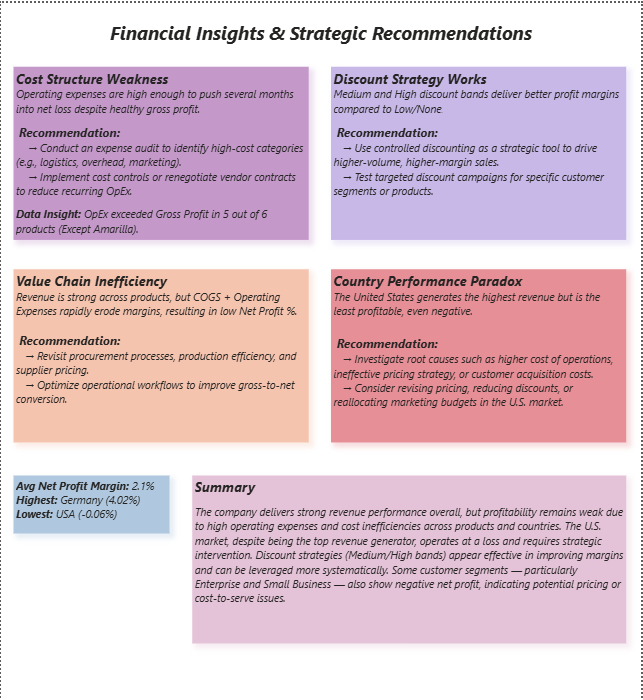

The dashboard page shown, as its layout file describes it:
{"tool":"powerbi","page":{"name":"Insights & Recommendations","canvas":[1280,1400],"ordinal":1},"visuals":[{"type":"textbox","box":[0,30,1280,80],"z":0},{"type":"textbox","box":[25,126.7,590,346.7],"z":1},{"type":"textbox","box":[25,533.3,590,346.7],"z":2},{"type":"textbox","box":[660,126.7,590,346.7],"z":3},{"type":"textbox","box":[660,533.3,590,346.7],"z":4},{"type":"textbox","box":[26,944,312,116],"z":5},{"type":"textbox","box":[382,944,868,336],"z":6}]}

Visuals, with their boxes in screenshot pixels (x1, y1, x2, y2), scaled from the page's 1280x1400 canvas onto the 643x700 screenshot:
textbox: 0, 15, 642, 55
textbox: 13, 63, 309, 237
textbox: 13, 267, 309, 440
textbox: 332, 63, 628, 237
textbox: 332, 267, 628, 440
textbox: 13, 472, 170, 530
textbox: 192, 472, 628, 640
